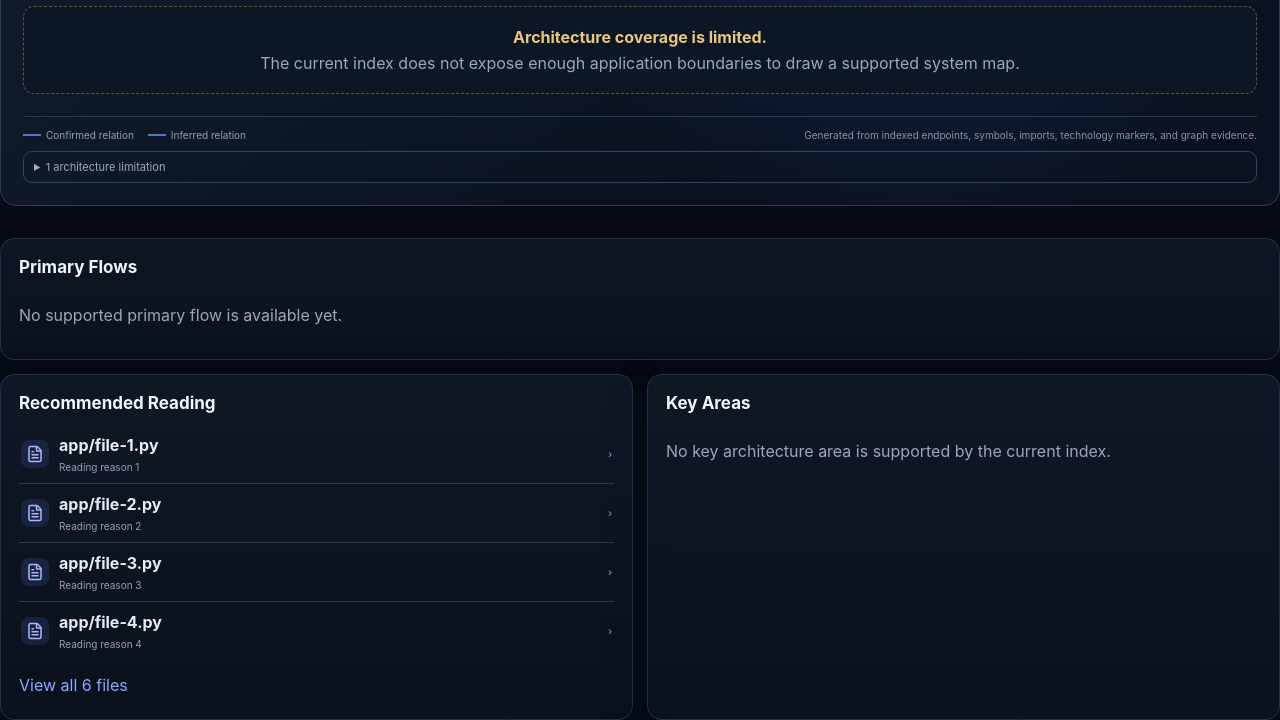
Test: UI-007 compact Overview compatibility › keeps reading compact and explicitly withholds unsupported key areas
(page scrolled)
Expected: the element "Key Areas" is shown, [647, 374, 1279, 719]
Expected: the text "app/file-5.py" is not shown
Step 1. Click the button "View all 6 files" → (73, 685), box [19, 669, 128, 701]
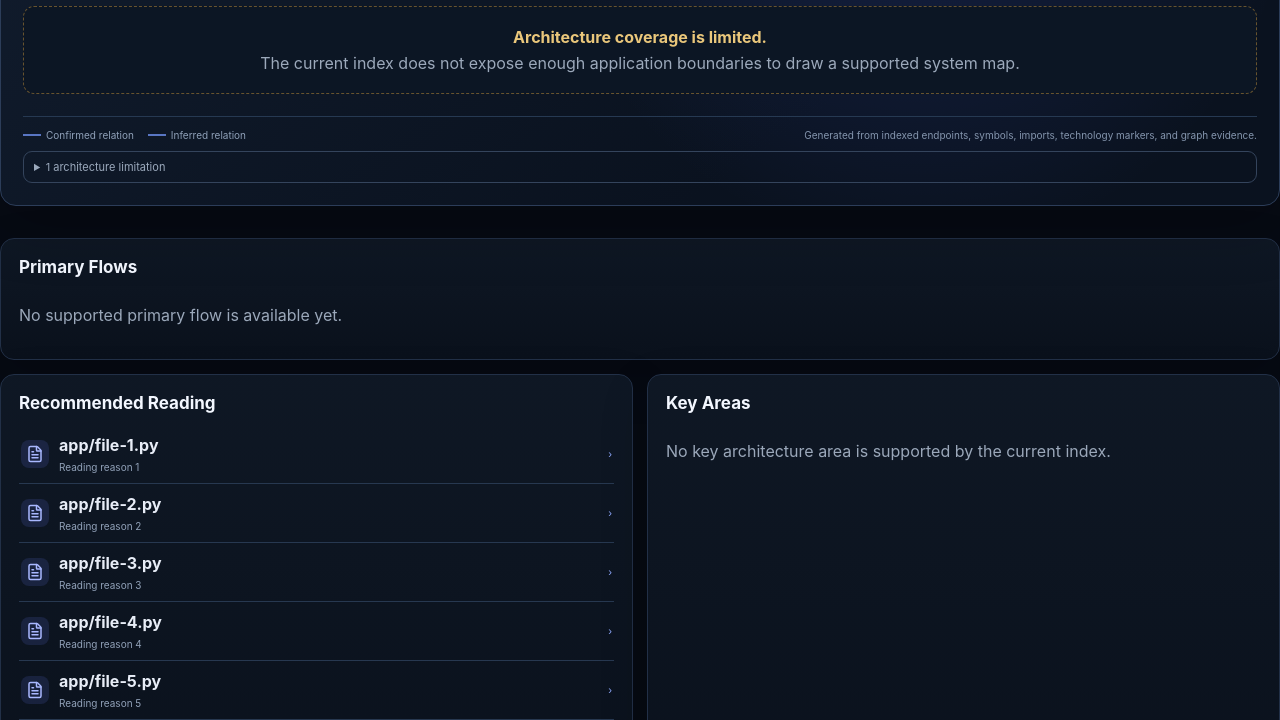
Expected: the text "No key architecture area is supported by the current index." is shown, [666, 441, 1111, 461]
Result: the text "app/file-5.py" is shown at [59, 671, 161, 691]
